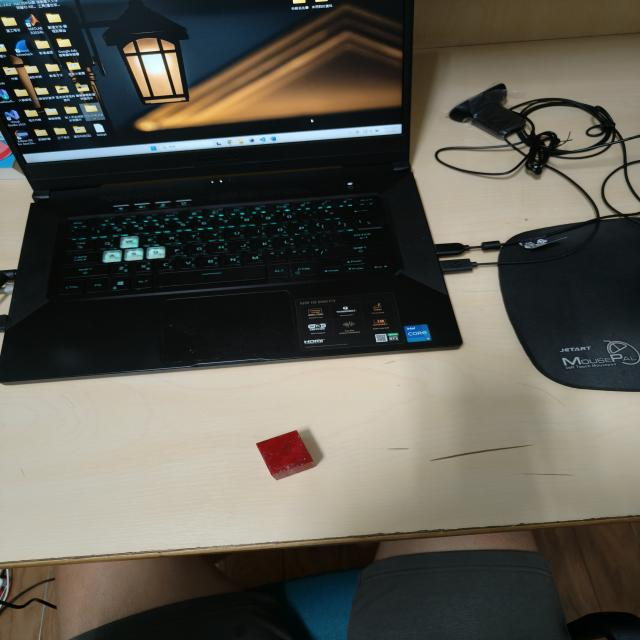red_block: (257, 430, 316, 481)
